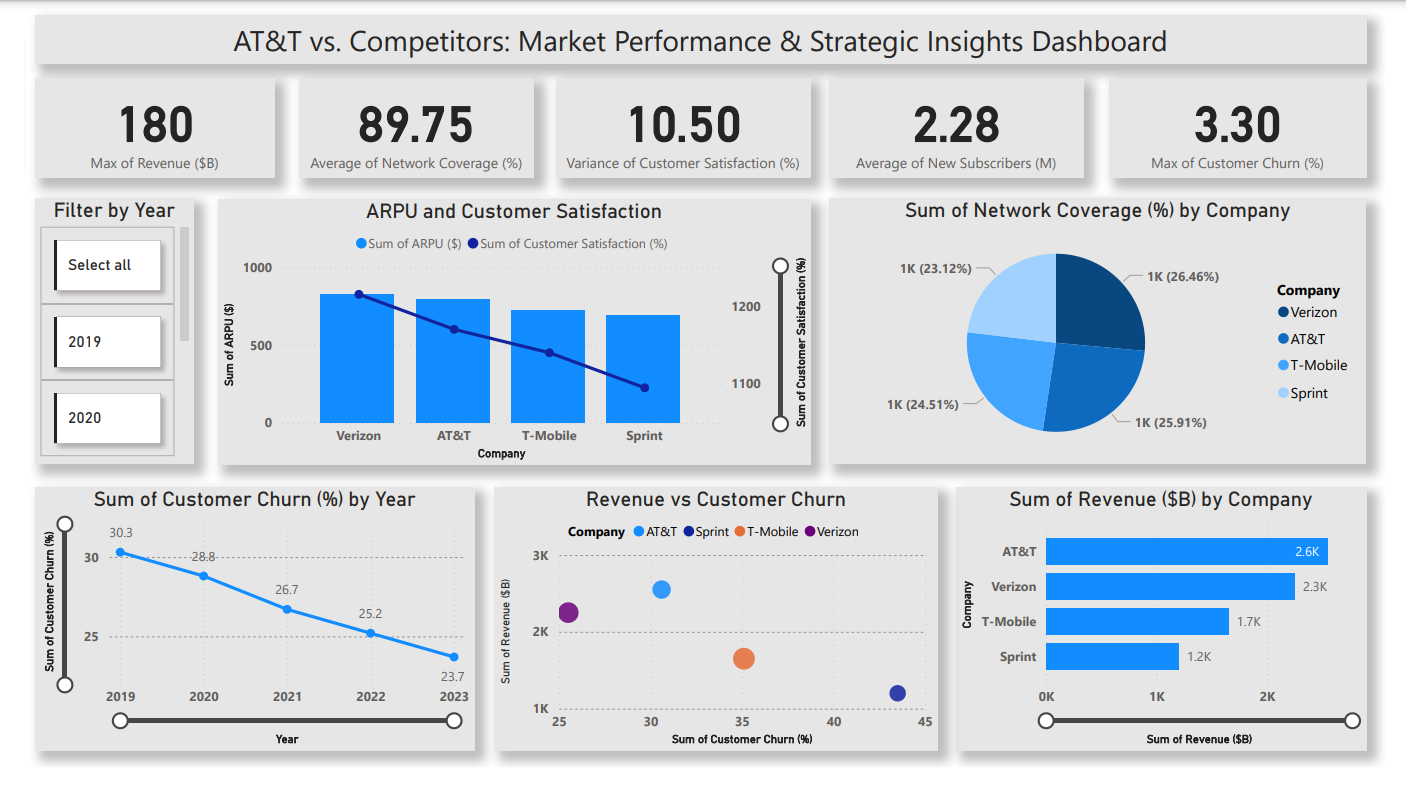

This screenshot's page, from the dashboard's own definition file:
{"tool":"powerbi","page":{"name":"Page 1","canvas":[1280,720],"ordinal":0},"visuals":[{"type":"barChart","fields":{"Category":["in.Company"],"Y":["Sum(in.Revenue ($B))"]},"box":[876.1,455.9,385.7,247.7],"z":0},{"type":"lineChart","fields":{"Category":["in.Year"],"Y":["Sum(in.Customer Churn (%))"]},"box":[9.9,455.9,412.8,247.7],"z":1000},{"type":"lineStackedColumnComboChart","title":"ARPU and Customer Satisfaction","fields":{"Category":["in.Company"],"Y":["Sum(in.ARPU ($))"],"Y2":["Sum(in.Customer Satisfaction (%))"]},"box":[182.4,184.8,557,250.1],"z":1001},{"type":"textbox","box":[9.9,12.3,1251.9,45.6],"z":1002},{"type":"card","fields":{"Values":["Max(in.Revenue ($B))"]},"box":[9.9,71.5,225.5,93.6],"z":1003},{"type":"card","fields":{"Values":["Avg(in.Network Coverage (%))"]},"box":[257.5,71.5,221.8,93.6],"z":1004},{"type":"card","fields":{"Values":["Sum(in.Customer Satisfaction (%))"]},"box":[500.3,71.5,239,93.6],"z":1005},{"type":"card","fields":{"Values":["Avg(in.New Subscribers (M))"]},"box":[756.6,71.5,239,93.6],"z":1006},{"type":"card","fields":{"Values":["Max(in.Customer Churn (%))"]},"box":[1020.3,71.5,241.5,93.6],"z":1007},{"type":"pieChart","fields":{"Category":["in.Company"],"Y":["Sum(in.Network Coverage (%))"]},"box":[756.6,183.6,505.2,250.1],"z":1008},{"type":"advancedSlicerVisual","title":"Filter by Year","fields":{"Values":["in.Year"]},"box":[9.9,183.6,149.1,250.1],"z":1009},{"type":"scatterChart","title":"Revenue vs Customer Churn","fields":{"X":["Sum(in.Customer Churn (%))"],"Y":["Sum(in.Revenue ($B))"],"Size":["Sum(in.New Subscribers (M))"],"Series":["in.Company"]},"box":[442.4,455.9,416.5,247.7],"z":1010}]}

Visuals, with their boxes in screenshot pixels (x1, y1, x2, y2), scaled from the page's 1280x720 canvas onto the 1406x787 screenshot:
barChart - in.Company x Sum(in.Revenue ($B)): {"left": 962, "top": 498, "right": 1386, "bottom": 769}
lineChart - in.Year x Sum(in.Customer Churn (%)): {"left": 11, "top": 498, "right": 464, "bottom": 769}
"ARPU and Customer Satisfaction" lineStackedColumnComboChart: {"left": 200, "top": 202, "right": 812, "bottom": 475}
textbox: {"left": 11, "top": 13, "right": 1386, "bottom": 63}
card - Max(in.Revenue ($B)): {"left": 11, "top": 78, "right": 259, "bottom": 180}
card - Avg(in.Network Coverage (%)): {"left": 283, "top": 78, "right": 526, "bottom": 180}
card - Sum(in.Customer Satisfaction (%)): {"left": 550, "top": 78, "right": 812, "bottom": 180}
card - Avg(in.New Subscribers (M)): {"left": 831, "top": 78, "right": 1094, "bottom": 180}
card - Max(in.Customer Churn (%)): {"left": 1121, "top": 78, "right": 1386, "bottom": 180}
pieChart - in.Company x Sum(in.Network Coverage (%)): {"left": 831, "top": 201, "right": 1386, "bottom": 474}
"Filter by Year" advancedSlicerVisual: {"left": 11, "top": 201, "right": 175, "bottom": 474}
"Revenue vs Customer Churn" scatterChart: {"left": 486, "top": 498, "right": 943, "bottom": 769}
